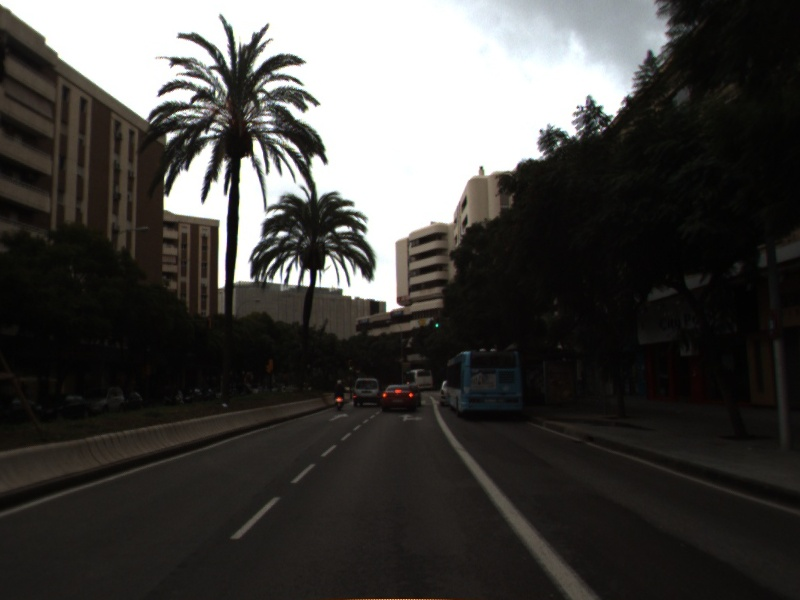STRAIGHT: (326, 411, 351, 423)
STRAIGHT_RIGHT: (397, 412, 424, 423)
